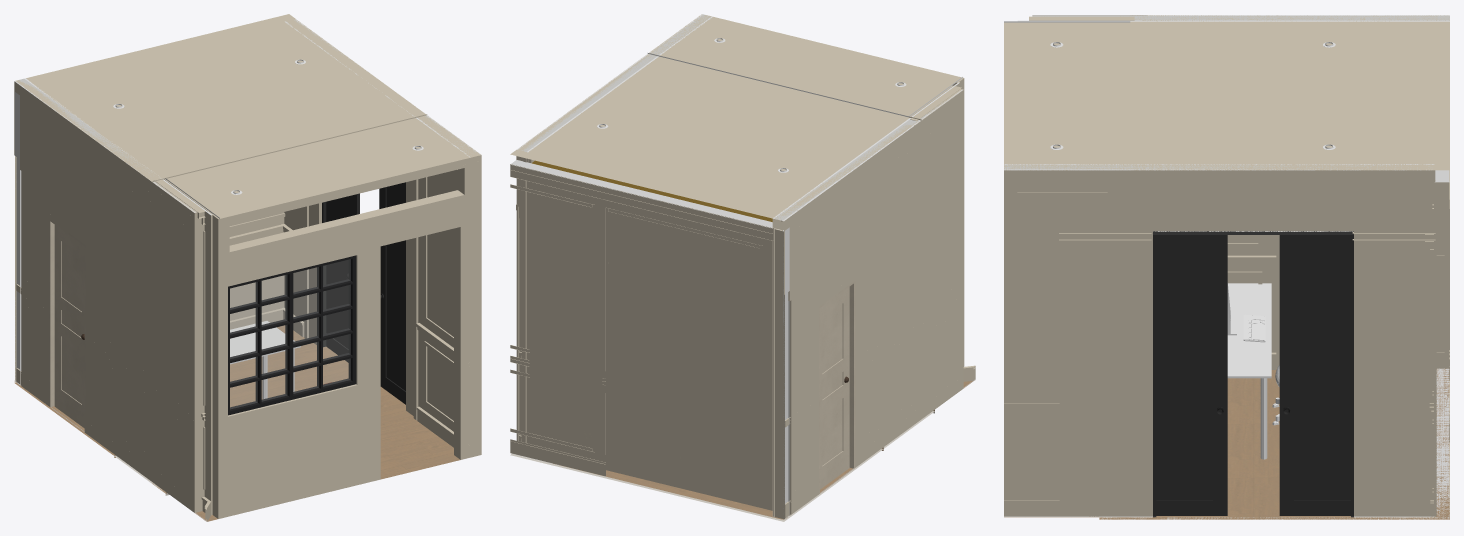
The model's file is office-west-31c7fe3e907b.glb.
3 views of the same model, side by side, from view 1: azimuth 30°, elevation 25°; view 2: azimuth 150°, elevation 25°; view 3: azimuth 270°, elevation 25° (orthographic). The views are drawn at different scales.
Parts seen in each view (by area): view 1: office-west-6a051330000fbca1, office-west-a822d30aa9e2c55a, office-west-2575515a05775d9e, office-west-72f8f5982ac3dc36, office-west-dbd60ee5c3733ed6, office-west-7b82ff44d03bcf83, office-west-7e39e4af19a71cea, office-west-80d276f58a4dc5cb, office-west-3b0077416469e01b, office-west-c374268555806af8, office-west-19647d6da46c2b80, office-west-58bb9195228d55f2 (+15 smaller); view 2: office-west-19647d6da46c2b80, office-west-6a051330000fbca1, office-west-2575515a05775d9e, office-west-dbd60ee5c3733ed6, office-west-80d276f58a4dc5cb, office-west-72f8f5982ac3dc36, office-west-7b51444cc162b982, office-west-a822d30aa9e2c55a, office-west-b887f8eb86297e9b, office-west-7634847ccd08185e, office-west-99102bcd8e097289, office-west-3b0077416469e01b (+9 smaller); view 3: office-west-72f8f5982ac3dc36, office-west-2575515a05775d9e, office-west-7e39e4af19a71cea, office-west-dbd60ee5c3733ed6, office-west-3b0077416469e01b, office-west-0811b6b476584948, office-west-6a051330000fbca1, office-west-534798eead7988b6, office-west-19647d6da46c2b80, office-west-4c8709d6bad8860e, office-west-a822d30aa9e2c55a, office-west-fd8387c77bd438eb (+4 smaller).
Part boxes in pixels (x1=…): office-west-6a051330000fbca1: x1=14, y1=78, x2=212, y2=514; office-west-a822d30aa9e2c55a: x1=212, y1=153, x2=470, y2=518; office-west-2575515a05775d9e: x1=15, y1=14, x2=427, y2=181; office-west-72f8f5982ac3dc36: x1=284, y1=19, x2=481, y2=457; office-west-dbd60ee5c3733ed6: x1=165, y1=116, x2=480, y2=218; office-west-7b82ff44d03bcf83: x1=230, y1=259, x2=350, y2=408; office-west-7e39e4af19a71cea: x1=322, y1=182, x2=405, y2=404; office-west-80d276f58a4dc5cb: x1=54, y1=225, x2=84, y2=428; office-west-3b0077416469e01b: x1=14, y1=325, x2=426, y2=493; office-west-c374268555806af8: x1=114, y1=428, x2=459, y2=521; office-west-19647d6da46c2b80: x1=229, y1=212, x2=284, y2=320; office-west-58bb9195228d55f2: x1=304, y1=179, x2=418, y2=420; office-west-19647d6da46c2b80: x1=511, y1=160, x2=773, y2=516; office-west-6a051330000fbca1: x1=772, y1=82, x2=963, y2=518; office-west-2575515a05775d9e: x1=510, y1=57, x2=921, y2=220; office-west-dbd60ee5c3733ed6: x1=647, y1=14, x2=962, y2=117; office-west-80d276f58a4dc5cb: x1=820, y1=287, x2=849, y2=489; office-west-72f8f5982ac3dc36: x1=516, y1=14, x2=712, y2=442; office-west-7b51444cc162b982: x1=510, y1=164, x2=773, y2=240; office-west-a822d30aa9e2c55a: x1=707, y1=17, x2=964, y2=366; office-west-b887f8eb86297e9b: x1=819, y1=281, x2=855, y2=493; office-west-7634847ccd08185e: x1=783, y1=227, x2=789, y2=516; office-west-99102bcd8e097289: x1=510, y1=439, x2=605, y2=476; office-west-3b0077416469e01b: x1=553, y1=410, x2=934, y2=519; office-west-72f8f5982ac3dc36: x1=1004, y1=164, x2=1436, y2=517; office-west-2575515a05775d9e: x1=1130, y1=15, x2=1449, y2=170; office-west-7e39e4af19a71cea: x1=1153, y1=231, x2=1353, y2=517; office-west-dbd60ee5c3733ed6: x1=1004, y1=21, x2=1130, y2=170; office-west-3b0077416469e01b: x1=1099, y1=368, x2=1449, y2=519; office-west-0811b6b476584948: x1=1004, y1=170, x2=1435, y2=184; office-west-6a051330000fbca1: x1=1018, y1=15, x2=1449, y2=368; office-west-534798eead7988b6: x1=1227, y1=283, x2=1279, y2=459; office-west-19647d6da46c2b80: x1=1435, y1=170, x2=1449, y2=517; office-west-4c8709d6bad8860e: x1=1017, y1=192, x2=1107, y2=394; office-west-a822d30aa9e2c55a: x1=1004, y1=22, x2=1019, y2=163; office-west-fd8387c77bd438eb: x1=1017, y1=419, x2=1107, y2=491.
Bounding box in the file's own units: 2.88 × 3.05 × 3.49.
Materials: 24 (5 with a texture image).
